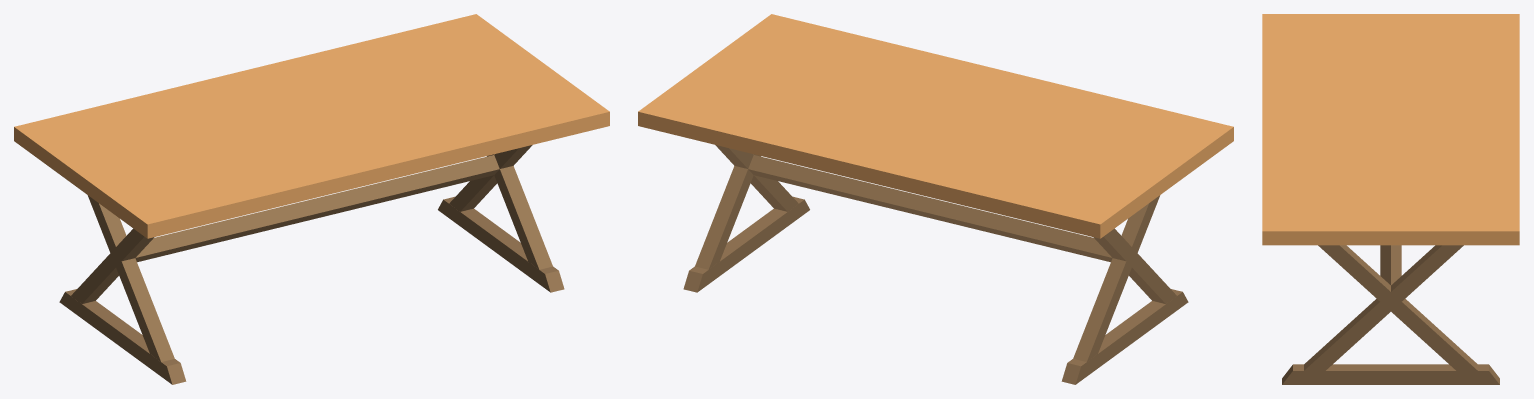
Rendered from Assets.fbx_Table.fbx.
The picture shows the model from 3 angles, left to right: view 1: azimuth 30°, elevation 25°; view 2: azimuth 150°, elevation 25°; view 3: azimuth 270°, elevation 25°; orthographic projection. The views are drawn at different scales.
Parts seen in each view (by area): view 1: Table; view 2: Table; view 3: Table.
Part boxes in pixels (x1,y1,x2,y2): Table: [14, 14, 609, 384]; Table: [638, 14, 1233, 384]; Table: [1262, 14, 1519, 384].
Size of the model in its own units: 200 by 72.96 by 100.
